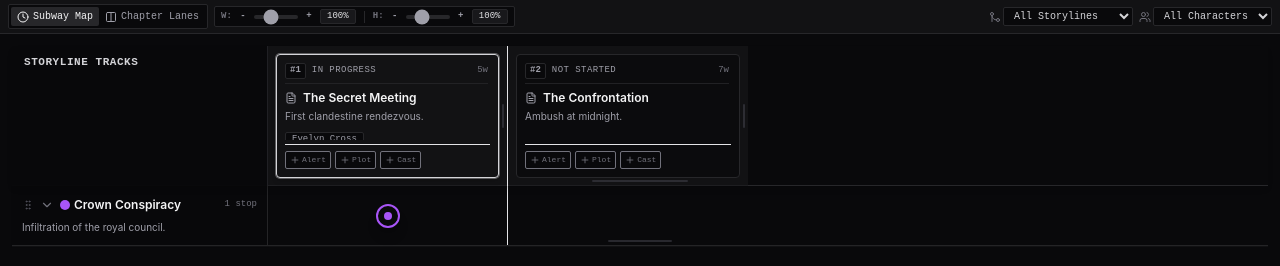
Test case: TimelineView › allows switching layout modes between Subway Map and Chapter Lanes
expect the text "Storyline Tracks" is shown: met, box [24,56,138,68]
# Click Chapter Lanes button
Click the button "Chapter Lanes": (152, 16) [99,7,205,26]
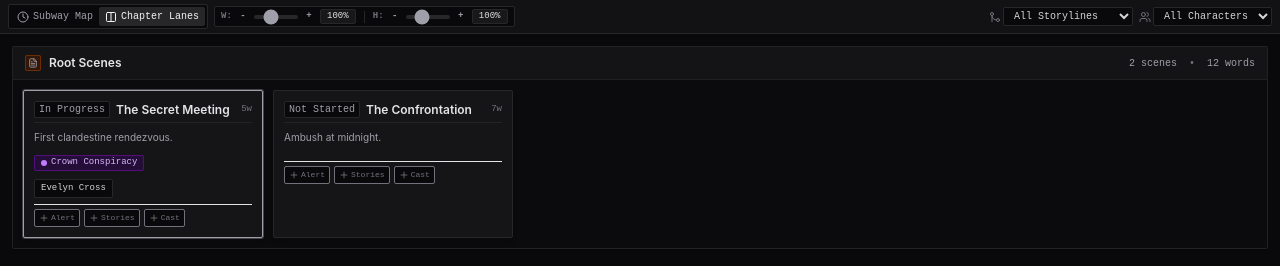
expect the text "Chapter Lanes" is shown: met, box [121,9,199,24]
# Switch back to Subway Map
Click the button "Subway Map": (55, 16) [11,7,99,26]
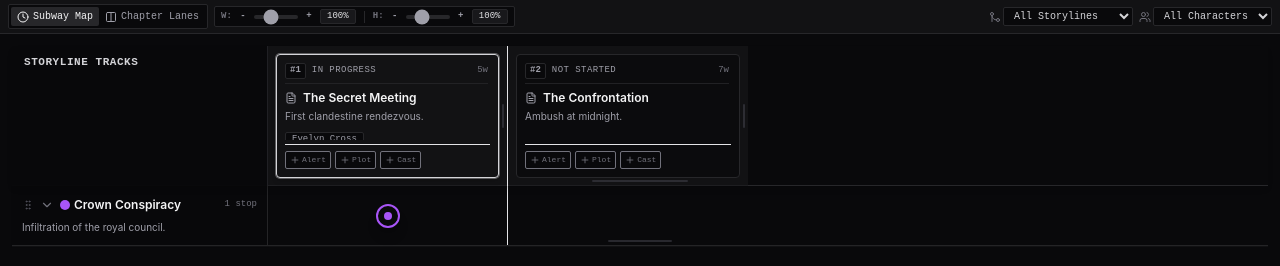
expect the text "Storyline Tracks" is shown: met, box [24,56,138,68]
